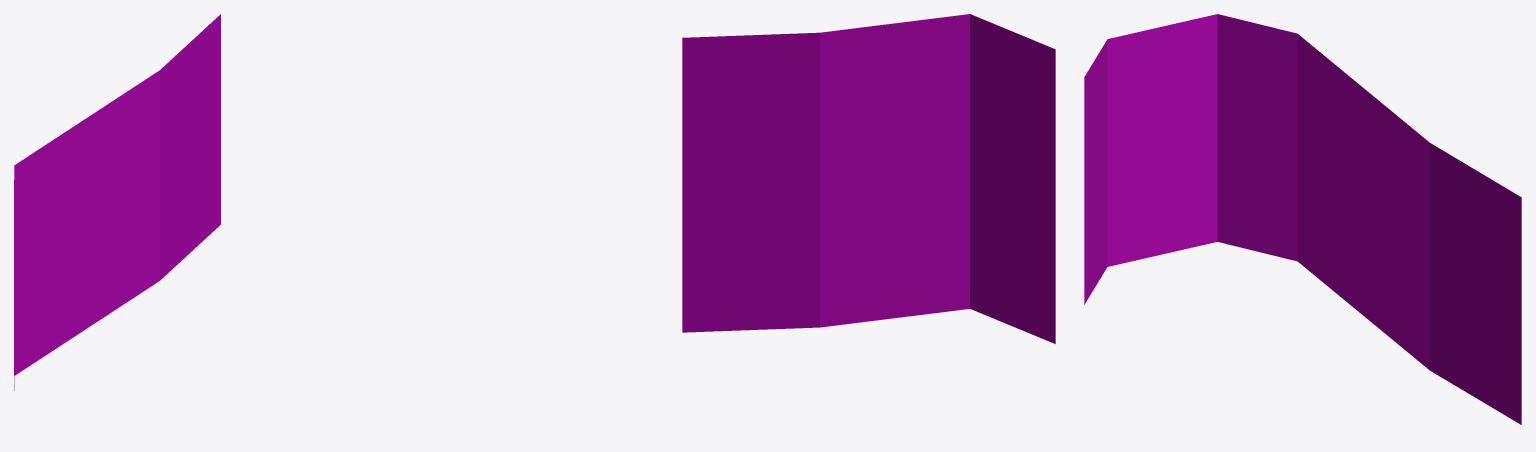
File: M5A_Zone1_CliffPoly3.glb
3 views of the same model, side by side, from view 1: azimuth 30°, elevation 25°; view 2: azimuth 150°, elevation 25°; view 3: azimuth 270°, elevation 25° (orthographic). The views are drawn at different scales.
Parts seen in each view (by area): view 1: M5A_ZONE1_CLIFFPOLY3; view 2: M5A_ZONE1_CLIFFPOLY3; view 3: M5A_ZONE1_CLIFFPOLY3.
Part boxes in pixels (left/top/right/bottom): M5A_ZONE1_CLIFFPOLY3: left=14, top=14, right=220, bottom=390; M5A_ZONE1_CLIFFPOLY3: left=682, top=14, right=1055, bottom=343; M5A_ZONE1_CLIFFPOLY3: left=1084, top=14, right=1521, bottom=424.
Size of the model in its own units: 39.68 by 27.1 by 39.98.
